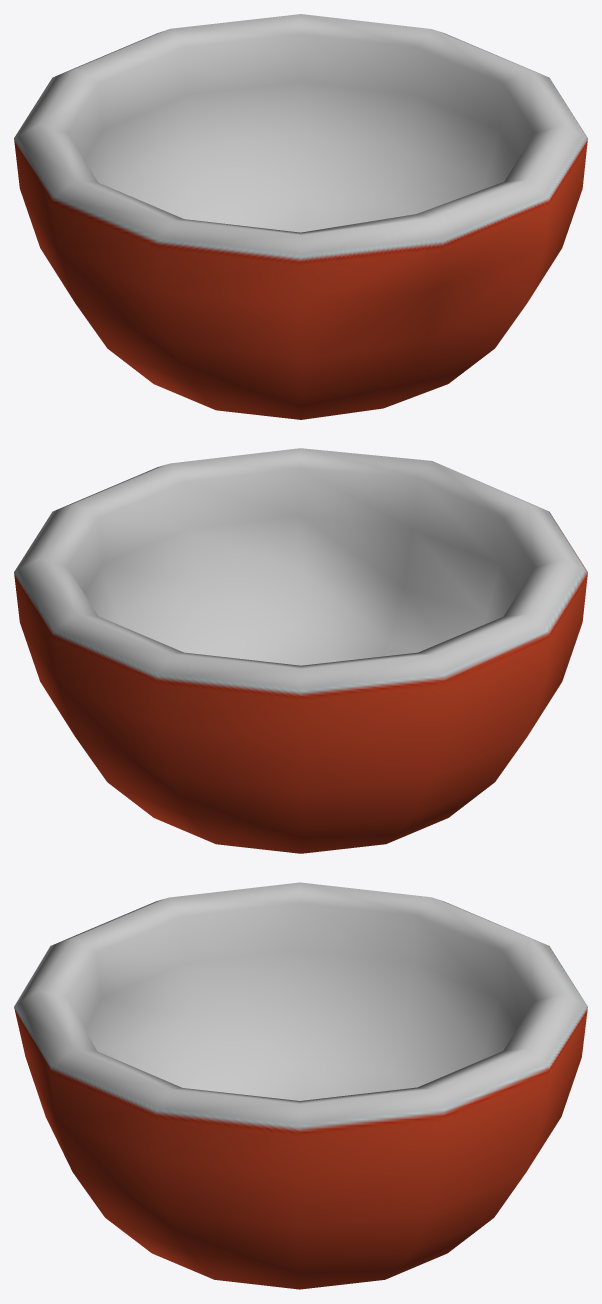
File: frl_apartment_bowl_02.glb
The picture shows the model from 3 angles, top to bottom: view 1: azimuth 30°, elevation 25°; view 2: azimuth 150°, elevation 25°; view 3: azimuth 270°, elevation 25°; orthographic projection.
Parts seen in each view (by area): view 1: frl_apartment_bowl_02; view 2: frl_apartment_bowl_02; view 3: frl_apartment_bowl_02.
Boxes of the visible parts, bbox=[...] form: frl_apartment_bowl_02: bbox=[14, 14, 587, 419]; frl_apartment_bowl_02: bbox=[14, 448, 587, 853]; frl_apartment_bowl_02: bbox=[14, 882, 587, 1289].
Size of the model in its own units: 0.2348 by 0.1153 by 0.234.
1 material, 1 textured.
